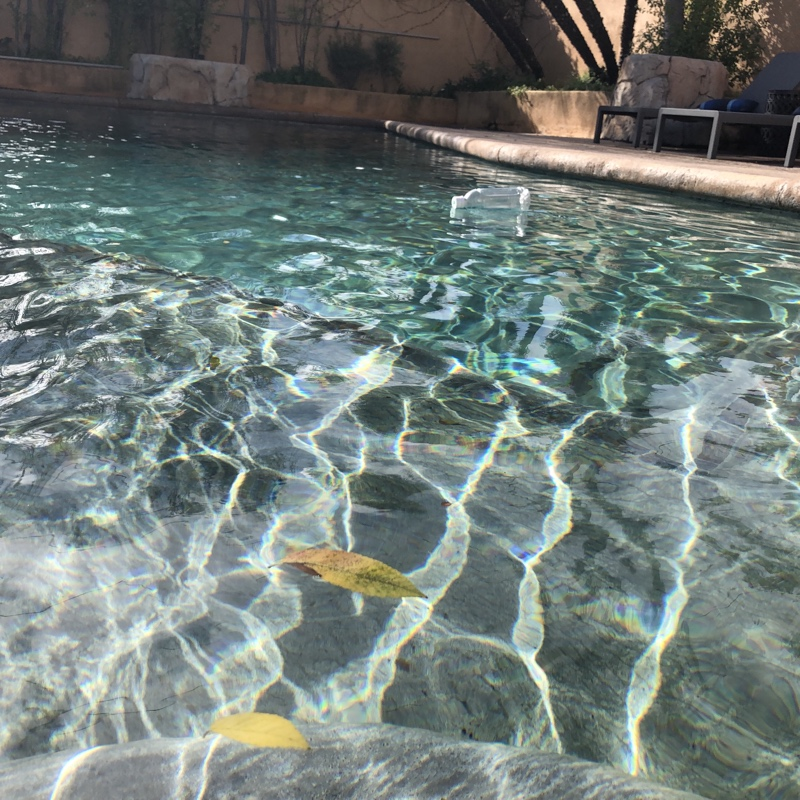Plastic Bottle: (447, 183, 532, 217)
